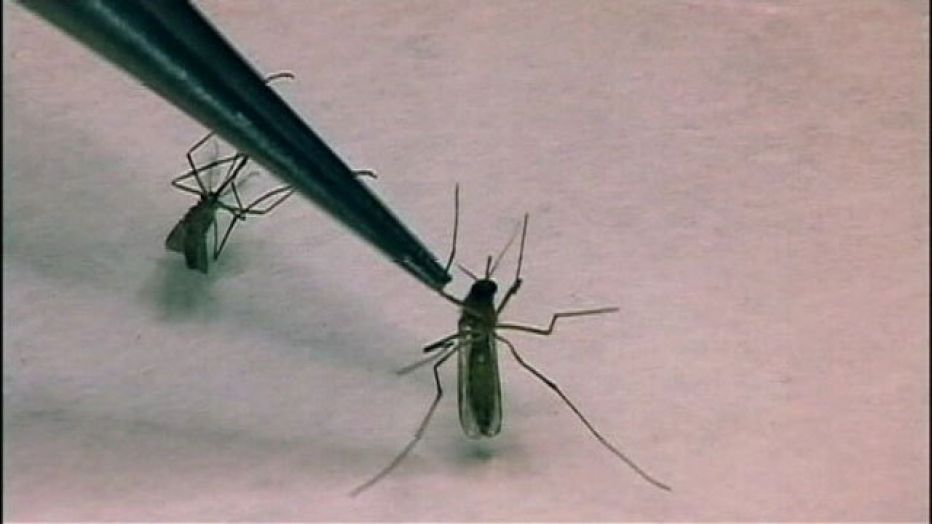mosquito: (374, 215, 691, 506), (122, 52, 385, 286)
